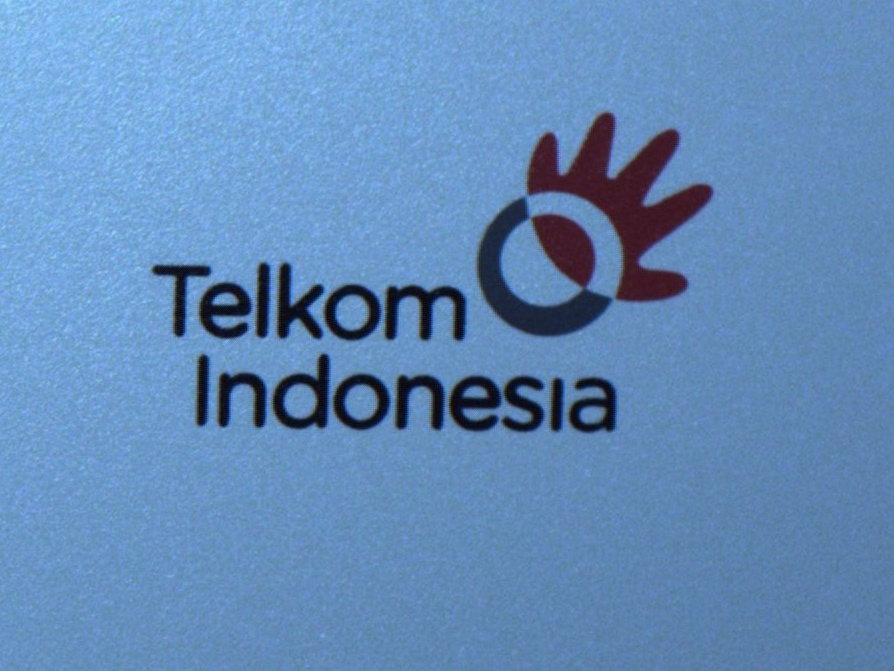BQ_IndonTelkom: (140, 107, 714, 452)
